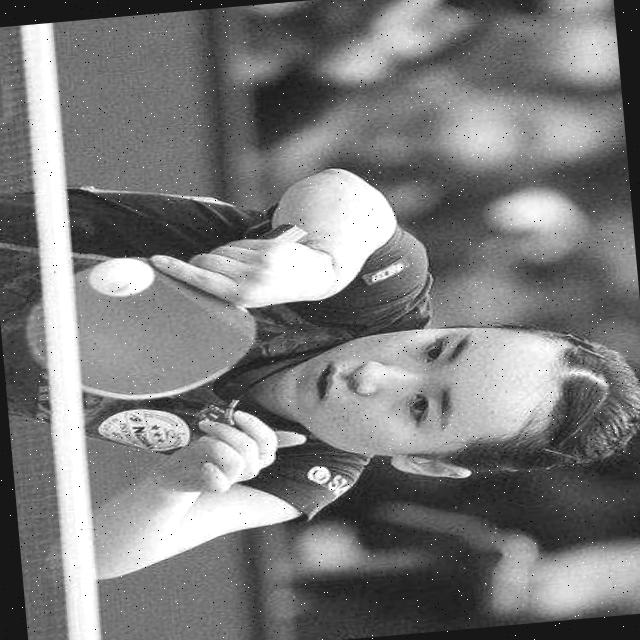ping-pong-ball: (85, 253, 162, 300)
